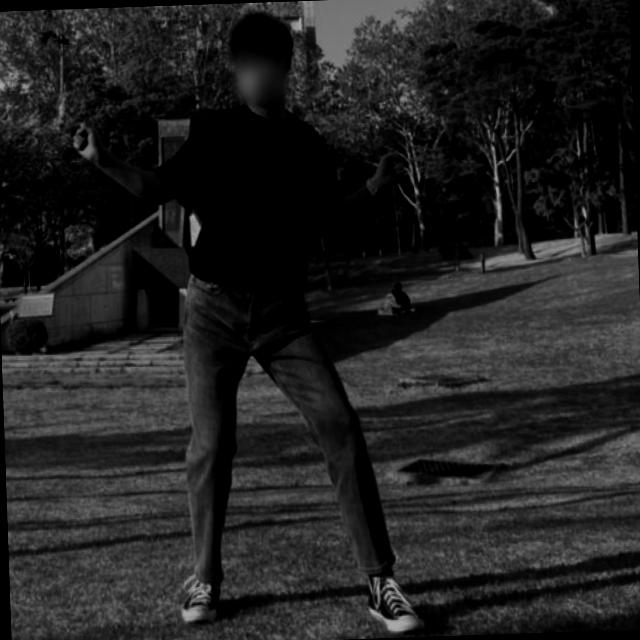denimpants: (178, 270, 398, 588)
shortsleeve: (150, 98, 342, 286)
